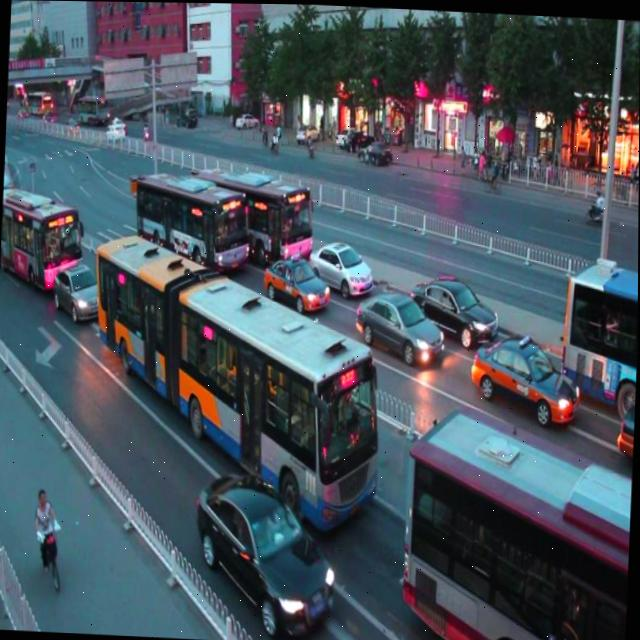car: (192, 462, 341, 635), (469, 323, 581, 428), (351, 278, 441, 364), (410, 265, 499, 342), (259, 243, 329, 312), (305, 228, 372, 296), (51, 257, 109, 322), (614, 391, 635, 469)
van: (82, 222, 388, 529), (403, 401, 635, 640), (130, 159, 251, 278), (191, 154, 315, 266), (560, 256, 639, 404), (0, 177, 82, 281)
